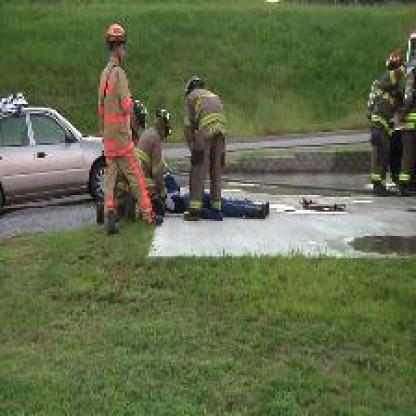other: (92, 80, 158, 216), (96, 18, 128, 37)
